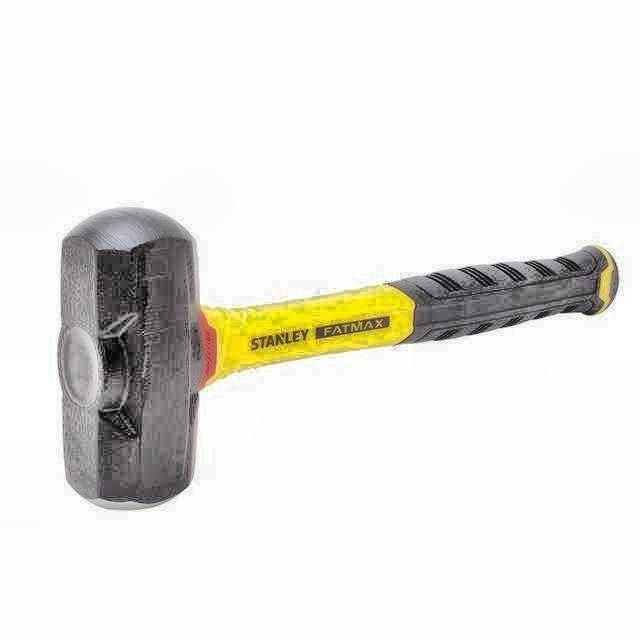hammer: (53, 201, 621, 511)
